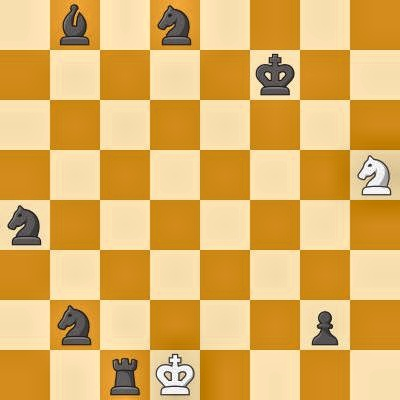black-bishop: (50, 0, 100, 50)
black-king: (250, 50, 300, 100)
black-knight: (150, 0, 200, 50), (0, 200, 50, 250), (50, 300, 100, 350)
black-pawn: (300, 300, 350, 350)
black-rook: (100, 350, 150, 400)
white-king: (150, 350, 200, 400)
white-knight: (350, 150, 400, 200)
